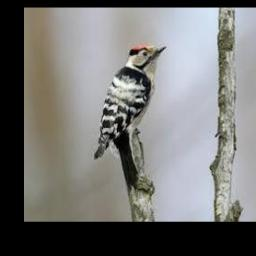Woodpecker: (94, 44, 167, 189)
